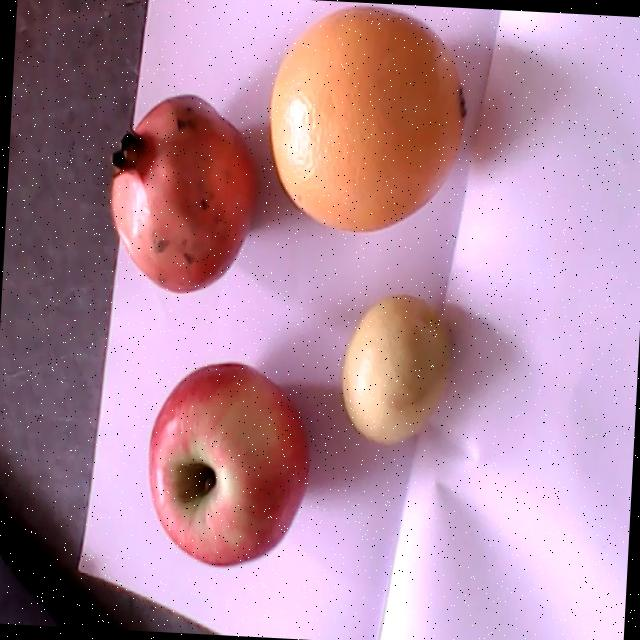apple: (147, 363, 310, 567)
lemon: (342, 296, 453, 443)
orange: (270, 7, 464, 233)
pomegranate: (108, 92, 257, 292)
